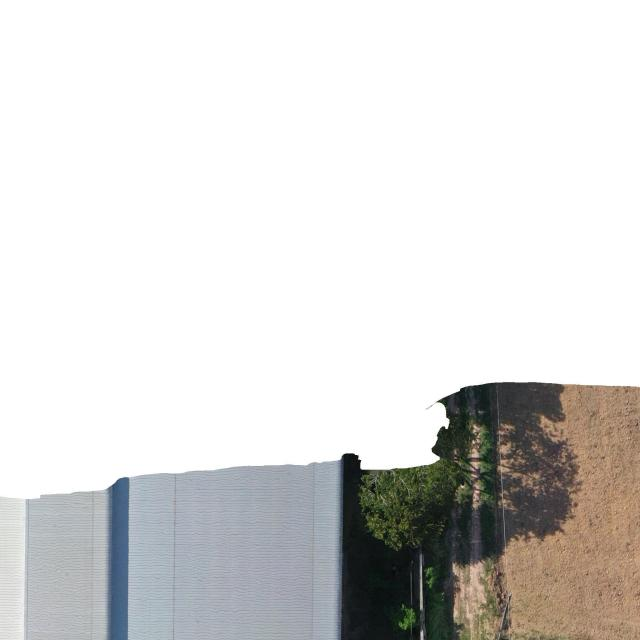Tree: (359, 466, 465, 555)
